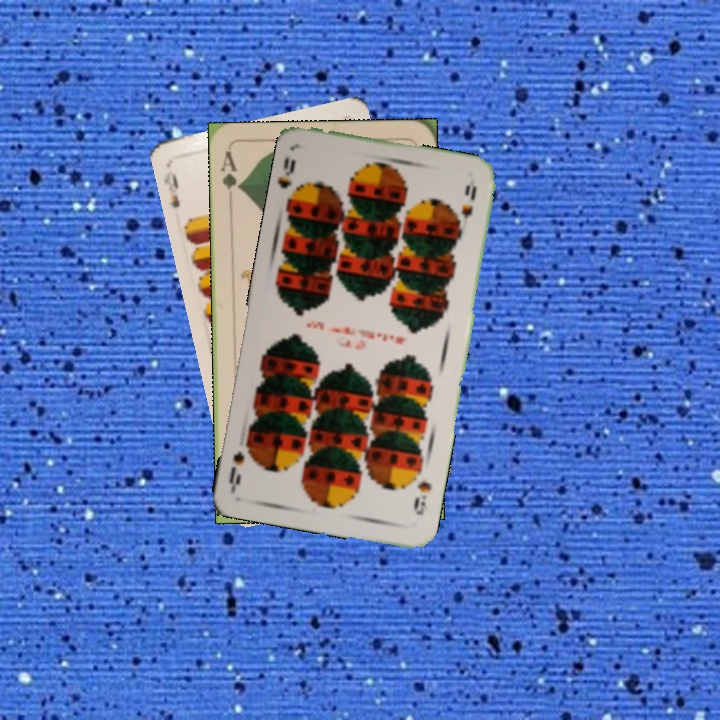E9: (160, 167, 183, 211)
GA: (216, 147, 243, 207)
S9: (409, 477, 434, 518), (275, 153, 298, 191)
